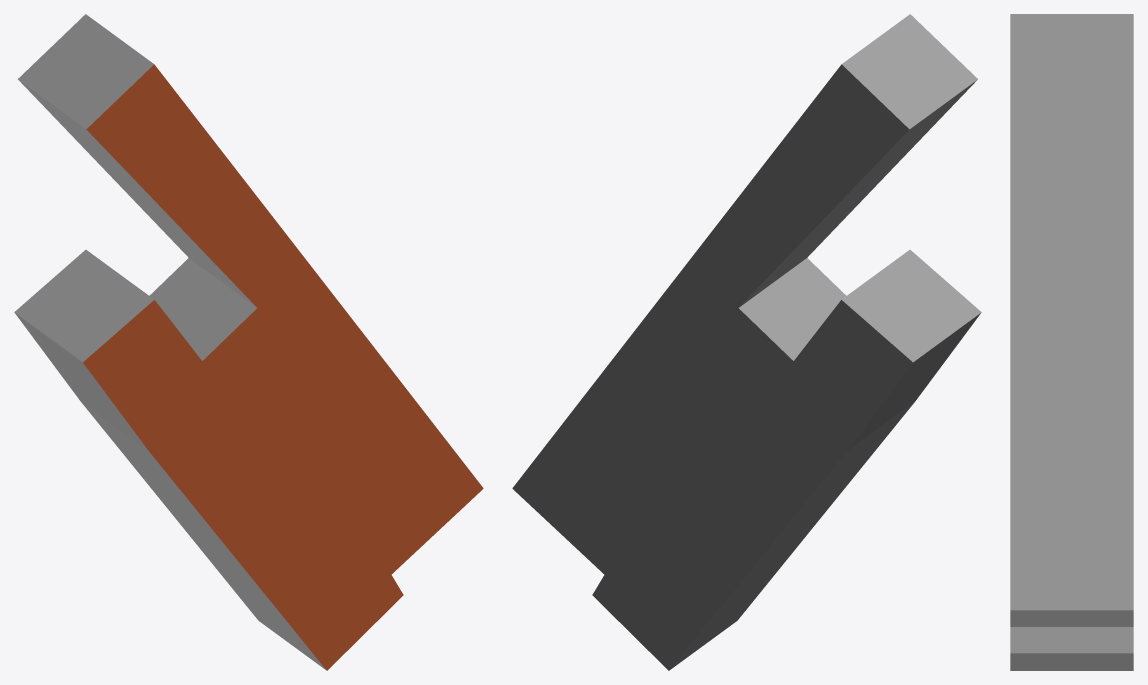
File: construction_6805_assumed_A_Casa_h6m.obj
The picture shows the model from 3 angles, left to right: view 1: azimuth 30°, elevation 25°; view 2: azimuth 150°, elevation 25°; view 3: azimuth 270°, elevation 25°; orthographic projection. The views are drawn at different scales.
Visible parts, largest first — view 1: construction_6805_assumed_A_Casa; view 2: construction_6805_assumed_A_Casa; view 3: construction_6805_assumed_A_Casa.
Part boxes in pixels (<box>): construction_6805_assumed_A_Casa: <box>14,14,483,670</box>; construction_6805_assumed_A_Casa: <box>512,14,981,670</box>; construction_6805_assumed_A_Casa: <box>1010,14,1133,670</box>.
Bounding box in the file's own units: 20.23 × 31.29 × 6.
